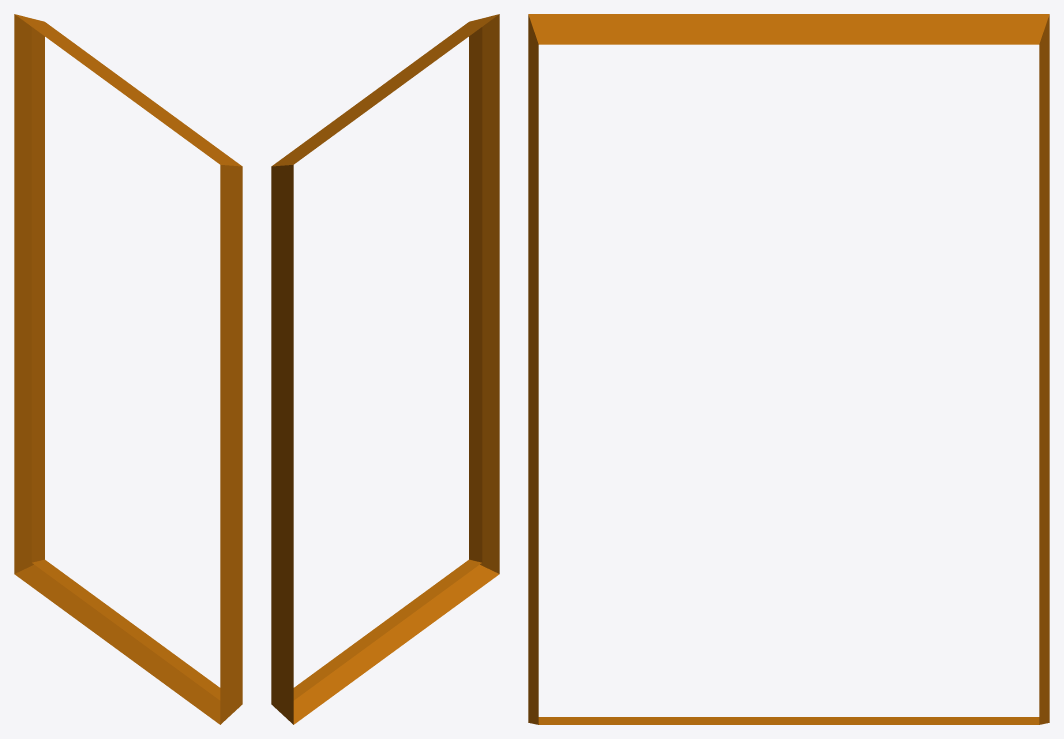
Rendered from frame.gltf.
3 renders of one model, left to right at view 1: azimuth 30°, elevation 25°; view 2: azimuth 150°, elevation 25°; view 3: azimuth 270°, elevation 25°, orthographic. The views are drawn at different scales.
Visible parts, largest first — view 1: Cube; view 2: Cube; view 3: Cube.
Boxes of the visible parts, <box> form: Cube: <box>14,14,242,724</box>; Cube: <box>271,14,499,724</box>; Cube: <box>528,14,1049,724</box>.
Size of the model in its own units: 0.297 by 6 by 4.
